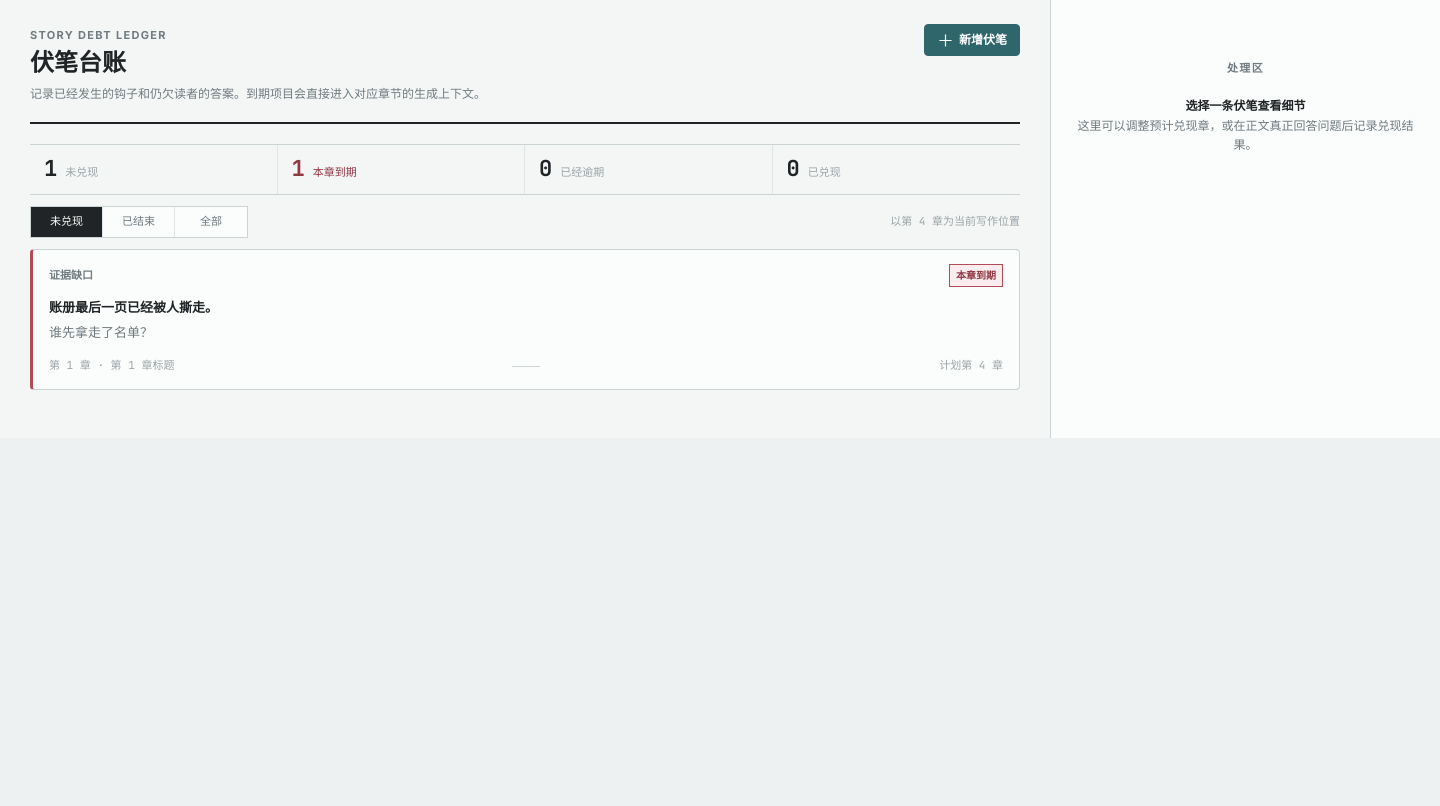
StoryHookLedger › records the payoff chapter and visible consequence before resolving
Click the element with test id "hook-1": (525, 319) [30,249,1020,390]
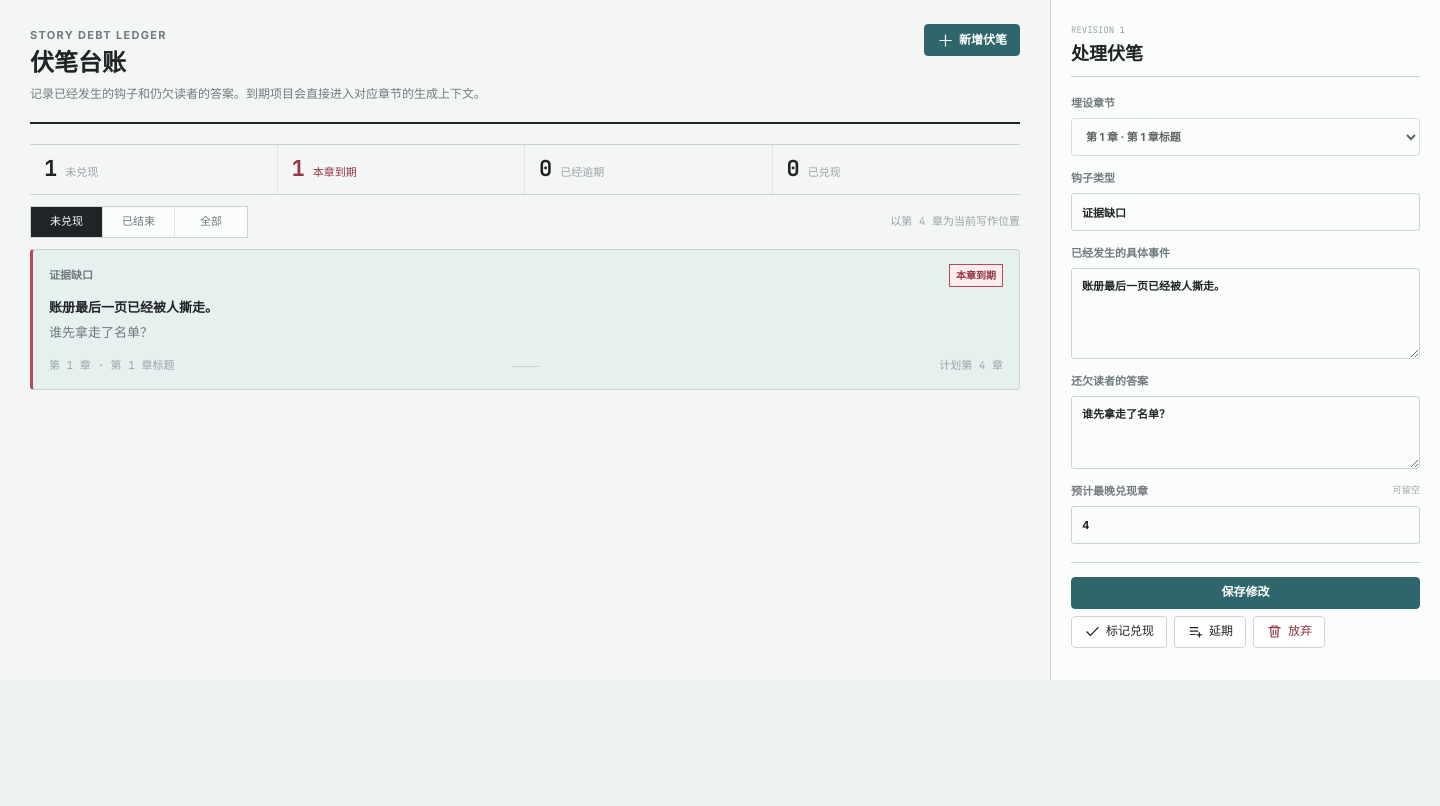
Click the button "标记兑现": (1119, 632) [1071,616,1167,648]
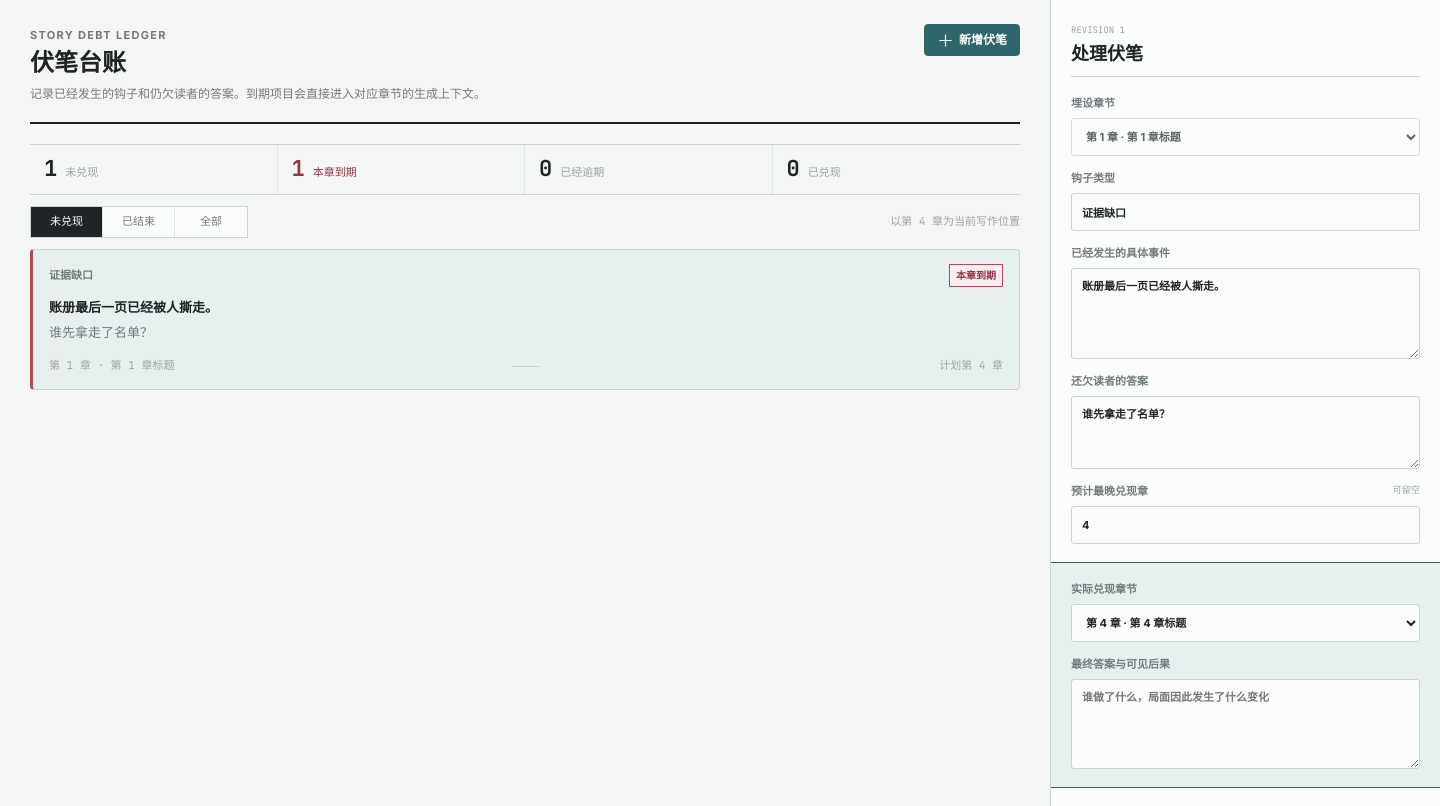
Select "第 4 章 · 第 4 章标题" in the dropdown labelled "实际兑现章节": (1246, 623) [1071,604,1420,642]
In the text box with placeholder "谁做了什么，局面因此发生了什么变化": (1246, 724) [1071,679,1420,769], type "名单藏在粮车夹层，被当众取出。"
(page scrolled)
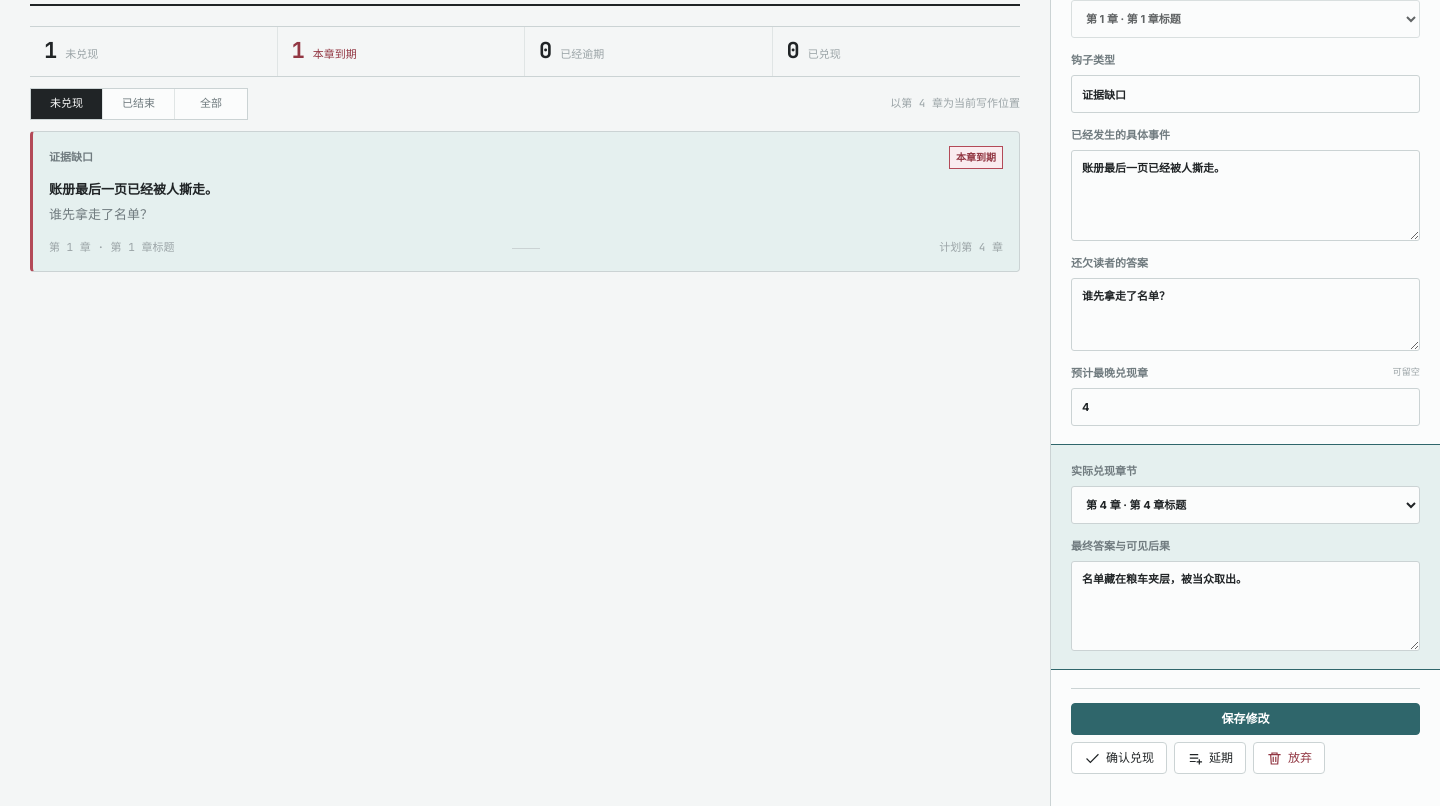
Click the button "确认兑现": (1119, 758) [1071,742,1167,774]
(page scrolled)
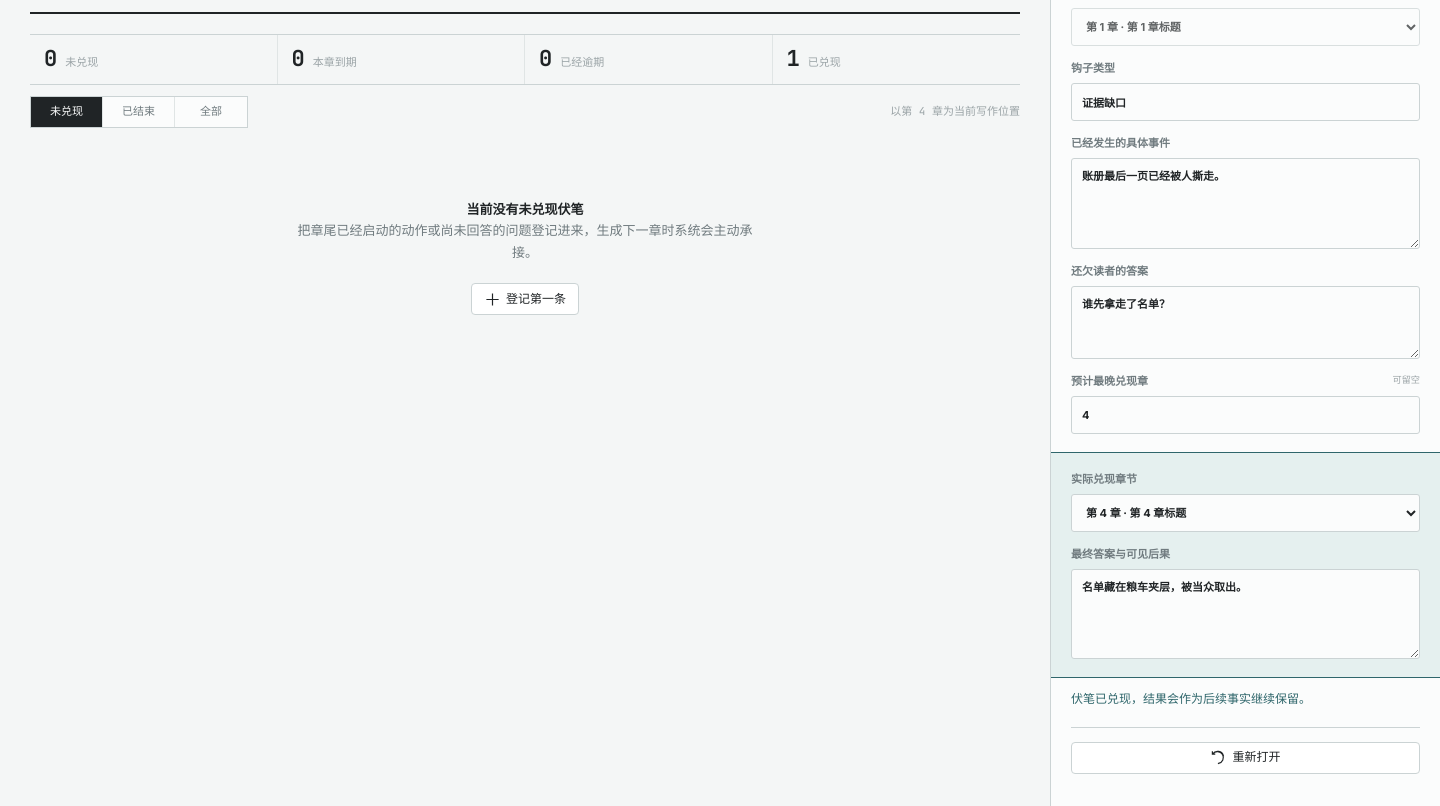
Now the text "伏笔已兑现" is shown, box [1071,691,1311,706]
